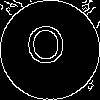O: (25, 25, 67, 74)
